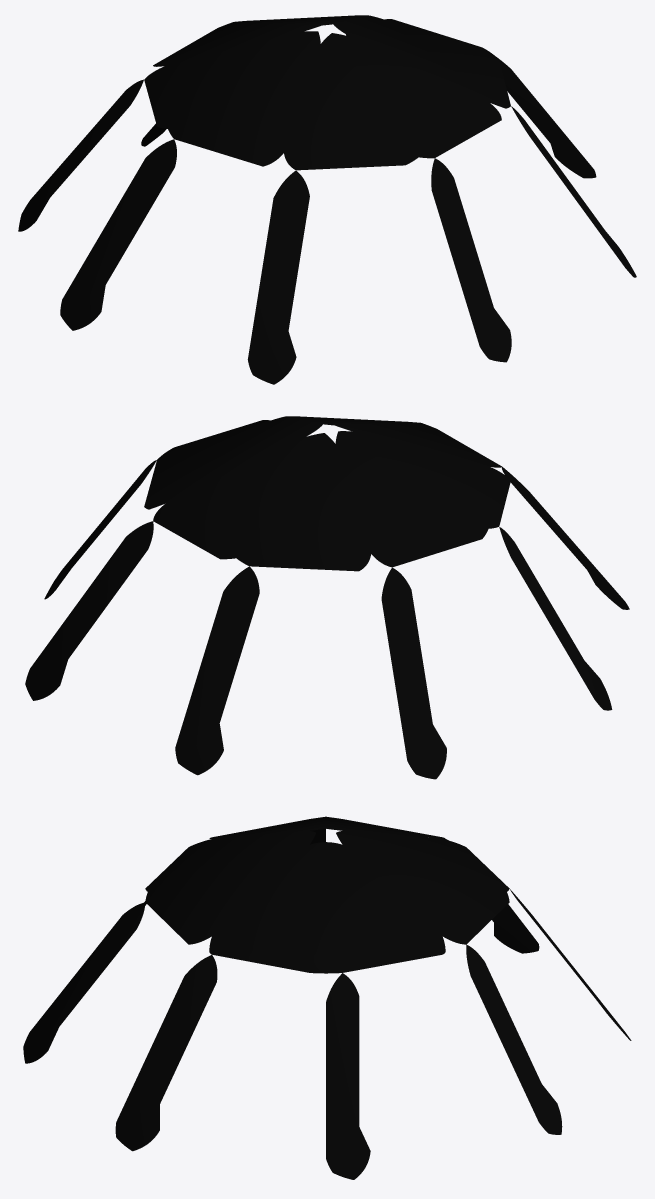
3 views of the same model, one above another, from view 1: azimuth 30°, elevation 25°; view 2: azimuth 150°, elevation 25°; view 3: azimuth 270°, elevation 25° (orthographic). The views are drawn at different scales.
Parts seen in each view (by area): view 1: T1L6M003_9; view 2: T1L6M003_9; view 3: T1L6M003_9.
Part boxes in pixels (box(x1,y1,x2,y2)): T1L6M003_9: box(18, 15, 636, 384); T1L6M003_9: box(25, 416, 629, 779); T1L6M003_9: box(23, 816, 631, 1179).
Size of the model in its own units: 0.2021 by 0.0791 by 0.2021.
1 material, 1 textured.
